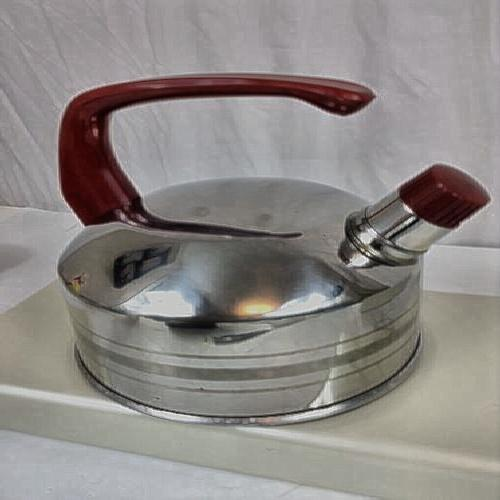kettle: (46, 89, 461, 414)
